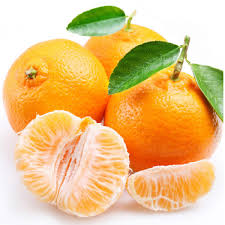orange: (112, 66, 220, 183), (19, 111, 132, 213), (2, 41, 108, 136), (126, 168, 217, 207)
